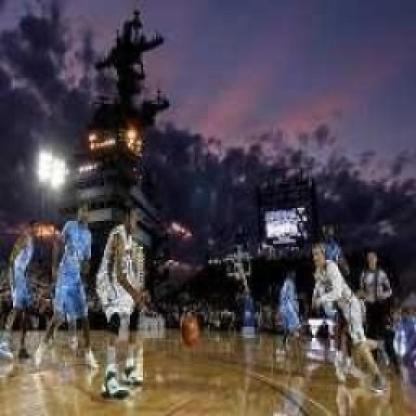basketball: (175, 308, 203, 350)
